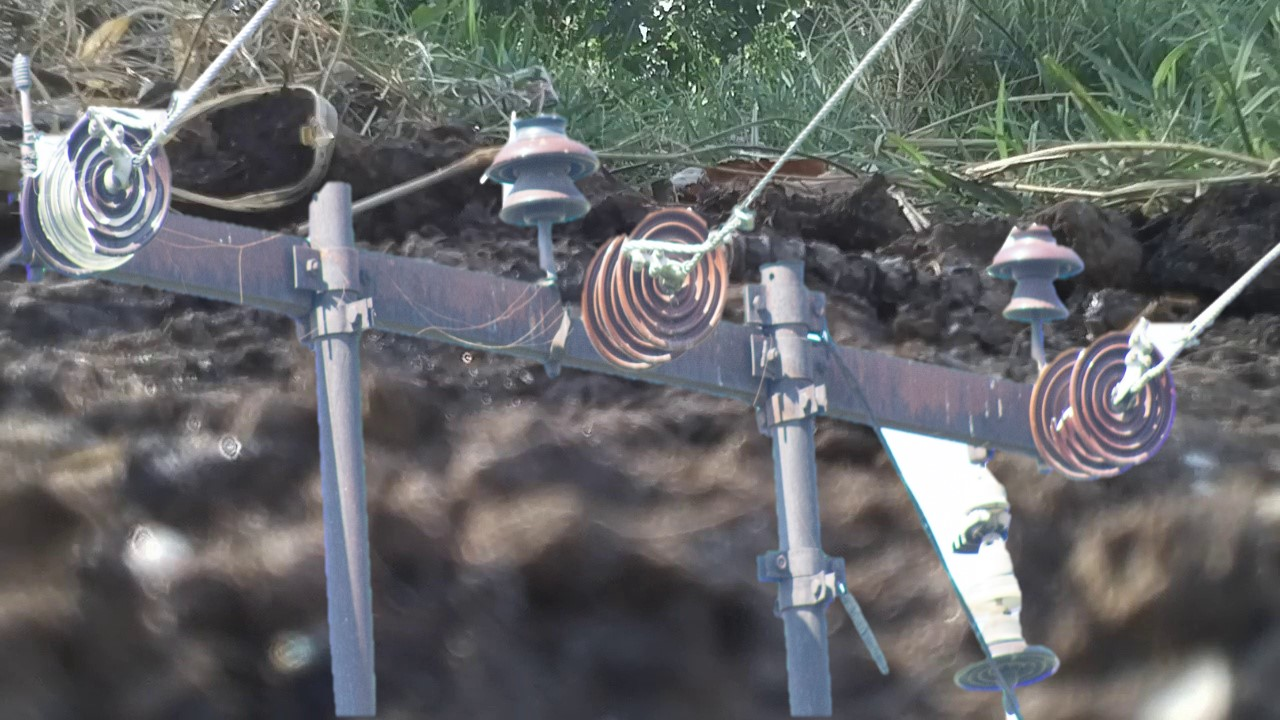defect_disc: (61, 100, 178, 260)
insulator_disc: (611, 200, 732, 356), (1067, 327, 1184, 472)
